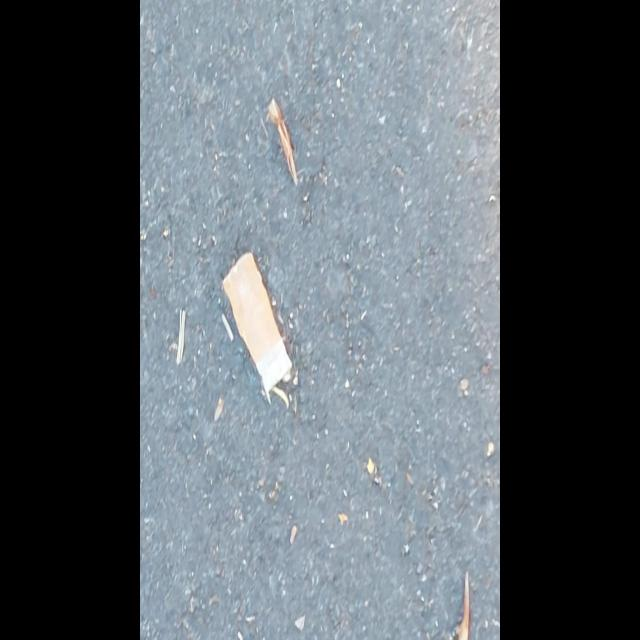other waste: (220, 247, 294, 397)
